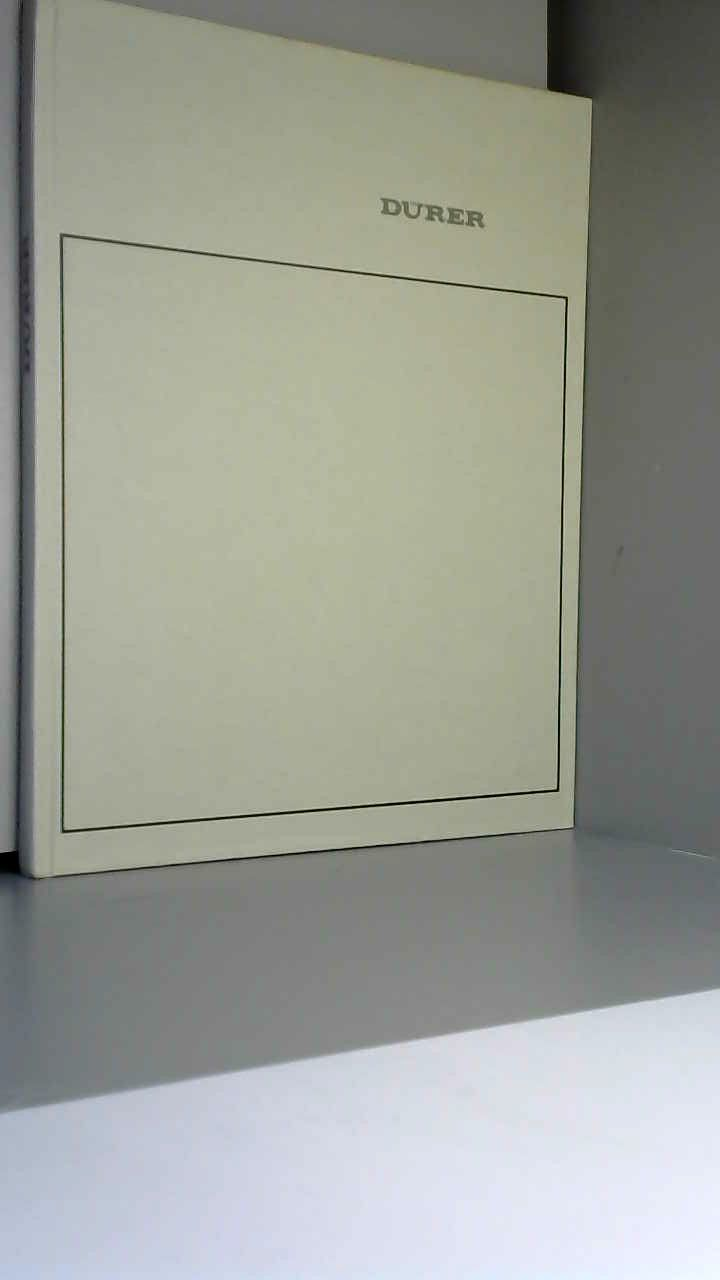book: (0, 0, 639, 936)
